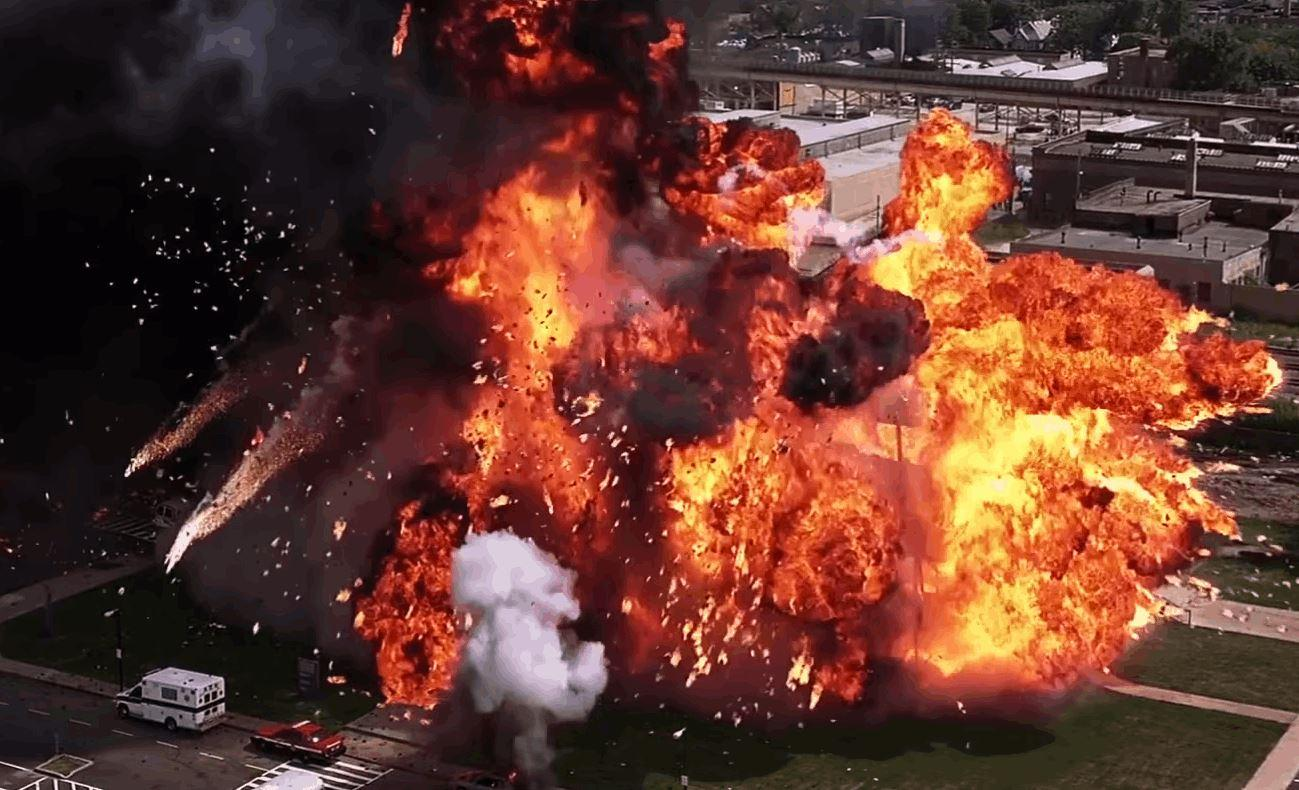fire: (119, 0, 1291, 739)
